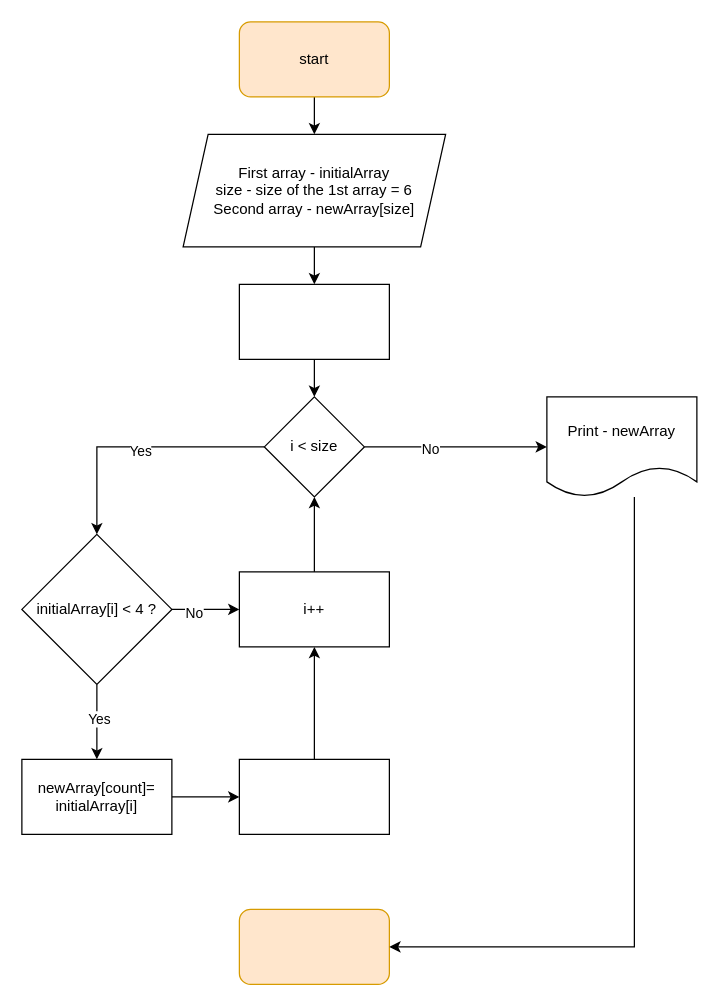
This 719x1006 diagram has some shape labels left out. Each missing label, with the box of its shape:
count++: (238, 758, 389, 834)
final: (238, 908, 389, 984)
i = 0 count = 0: (238, 283, 389, 359)
